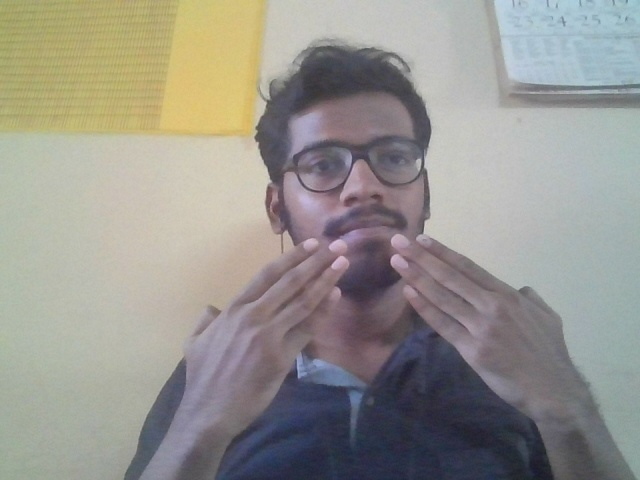ThankYou: (184, 235, 581, 415)
